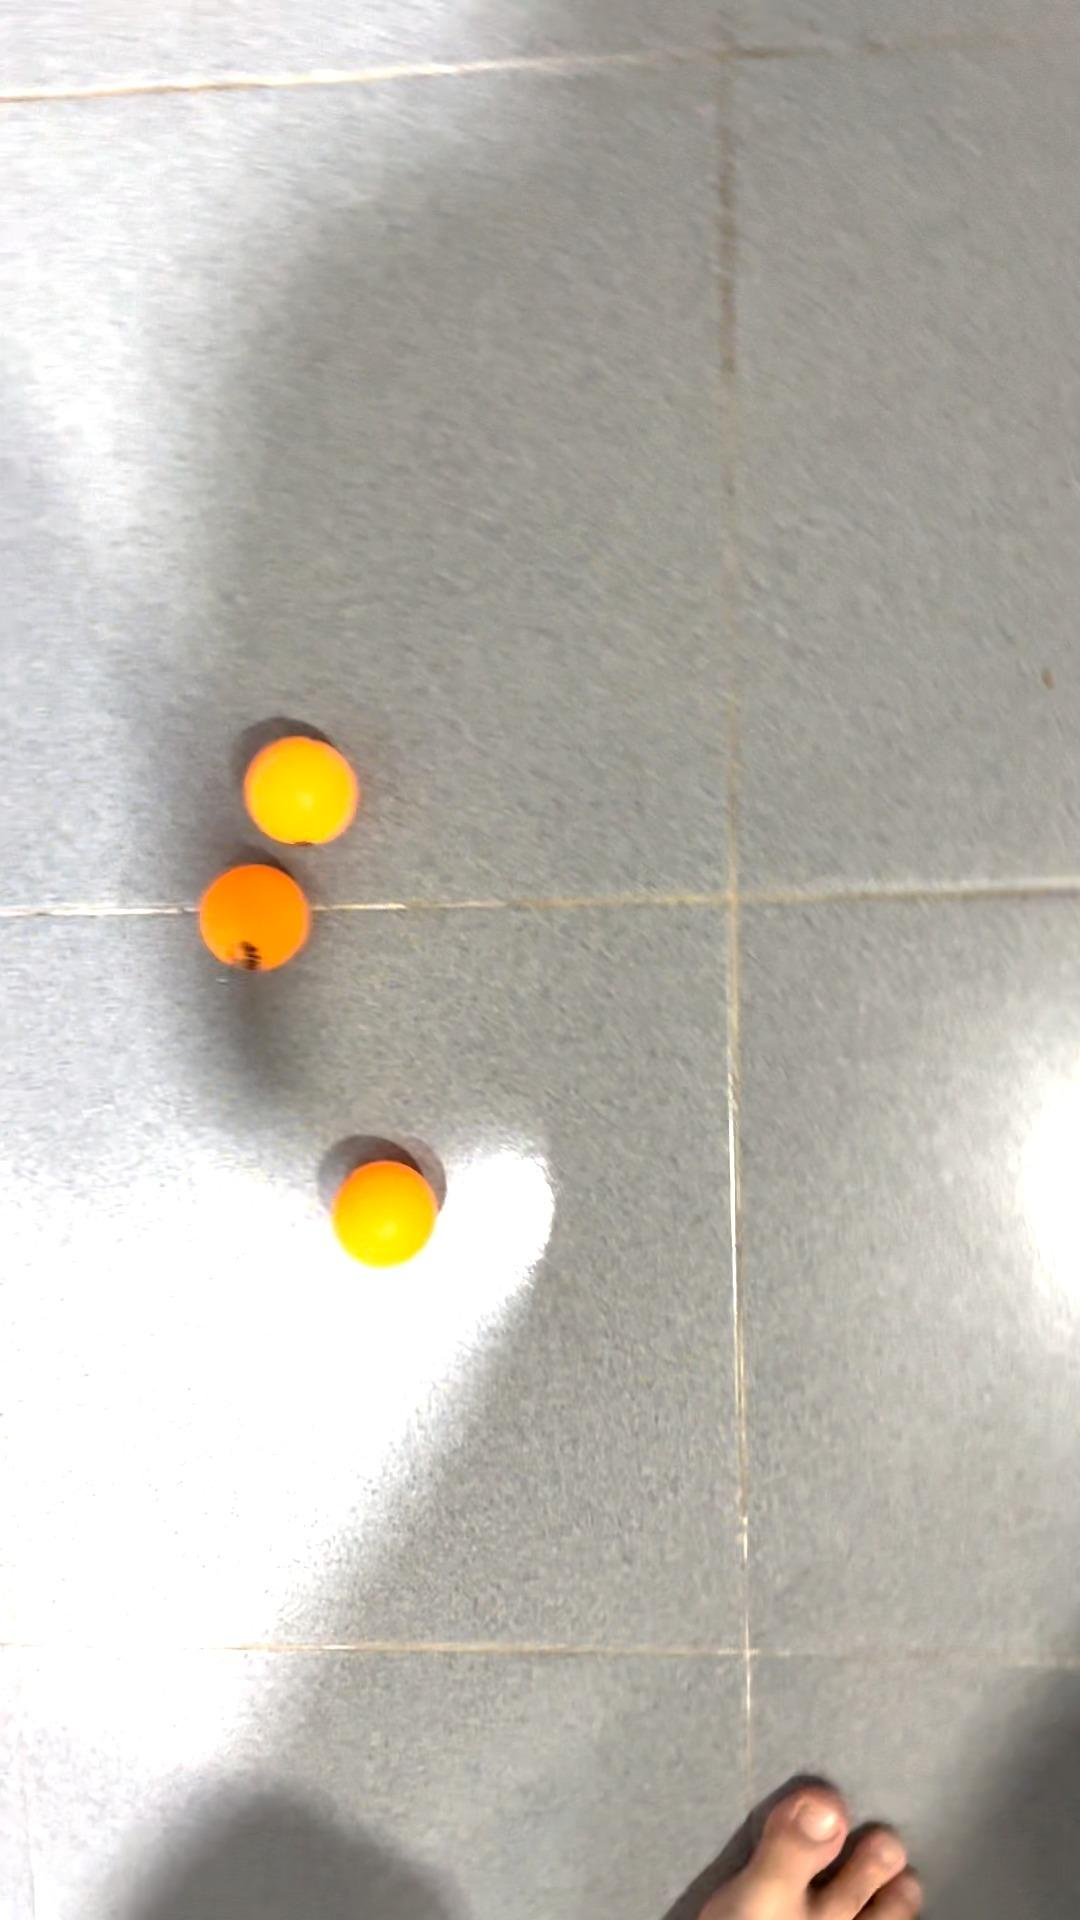oball: (235, 724, 373, 869), (324, 1147, 448, 1279), (196, 862, 319, 977)
